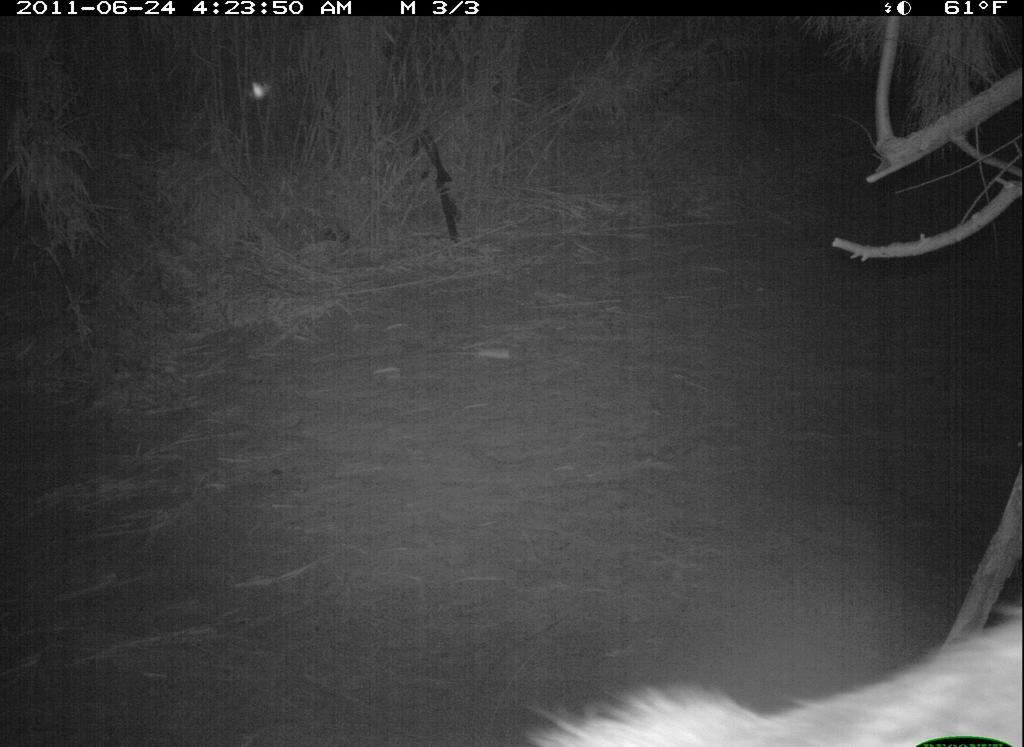raccoon: (515, 617, 1022, 747)
